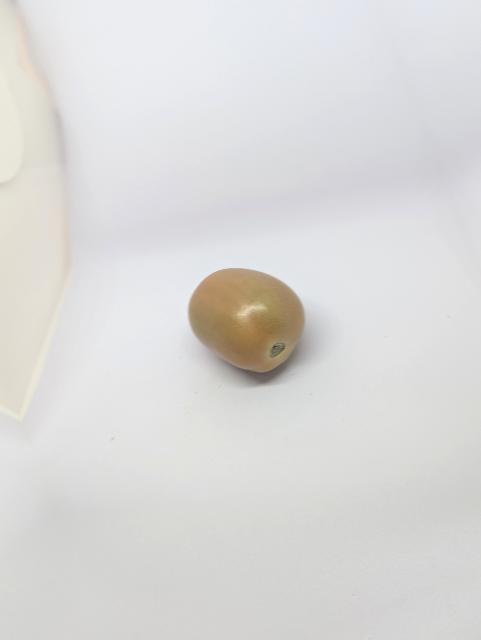turning: (179, 261, 311, 382)
